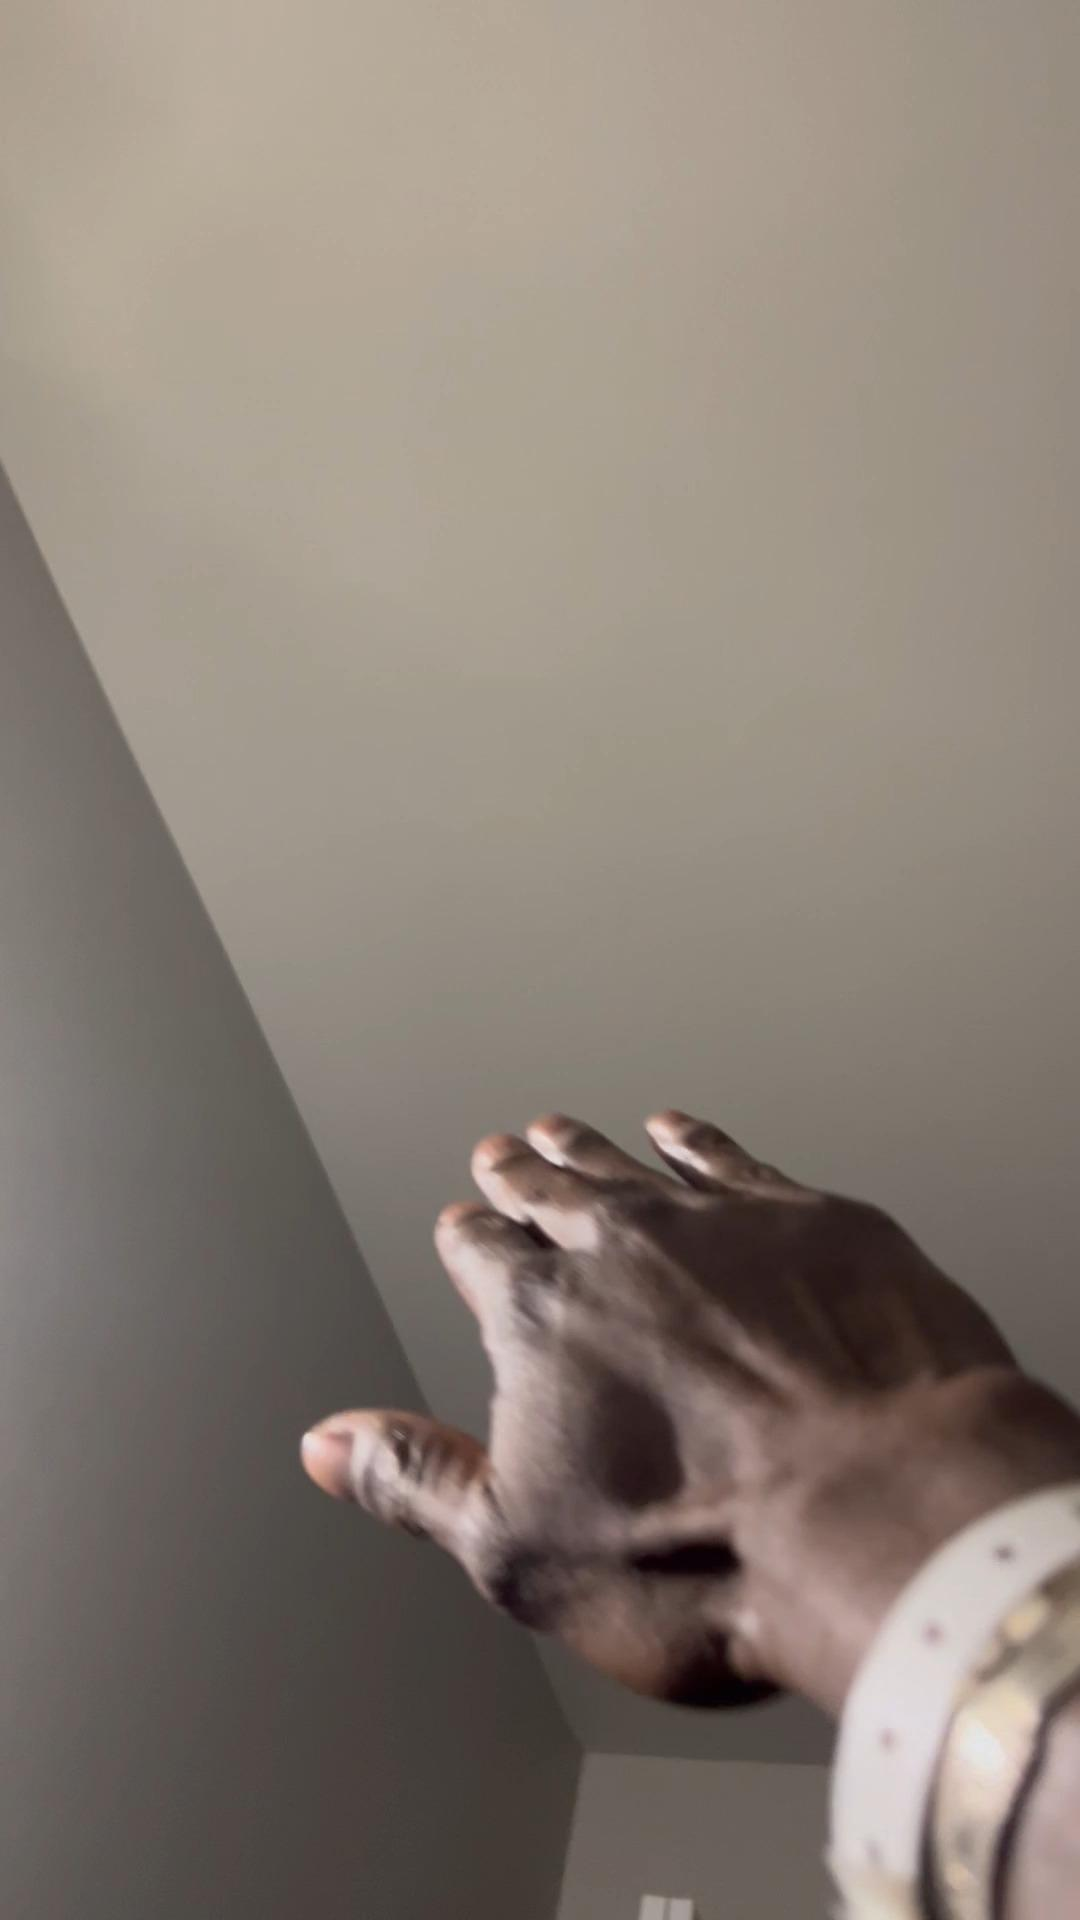Paper: (290, 1097, 1017, 1701)
